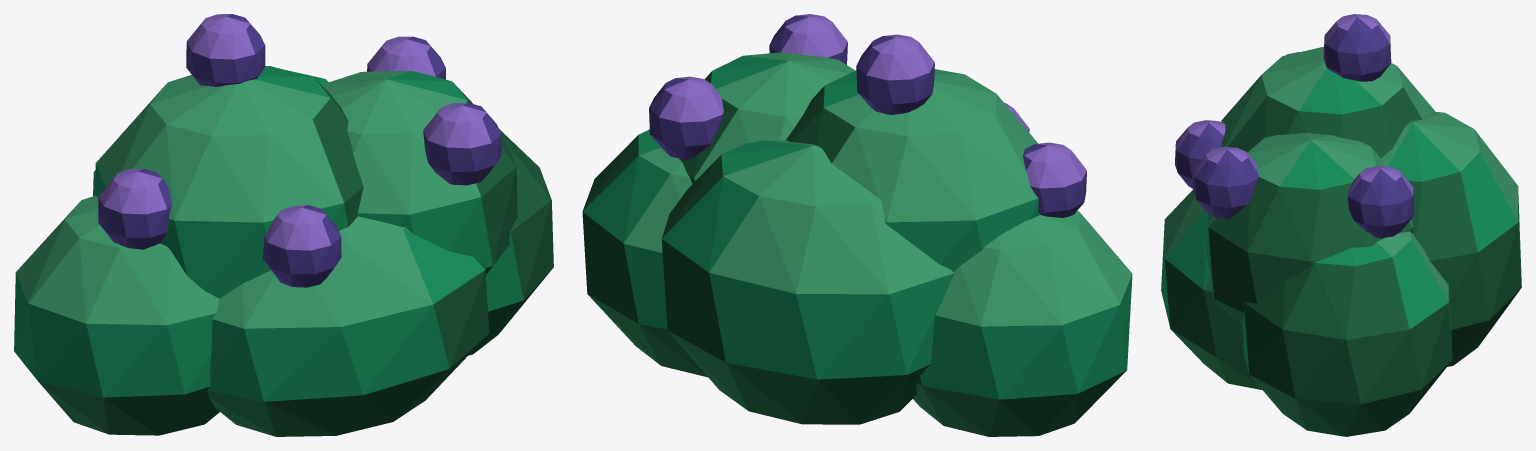
Rendered from berry_stage_04.fbx.
3 views of the same model, side by side, from view 1: azimuth 30°, elevation 25°; view 2: azimuth 150°, elevation 25°; view 3: azimuth 270°, elevation 25° (orthographic). The views are drawn at different scales.
Visible parts, largest first — view 1: berry_stage_04__Foliage, berry_stage_04; view 2: berry_stage_04__Foliage, berry_stage_04; view 3: berry_stage_04__Foliage, berry_stage_04.
Boxes of the visible parts, x1,y1,x2,y2 form: berry_stage_04__Foliage: [14, 66, 553, 436]; berry_stage_04: [98, 14, 501, 287]; berry_stage_04__Foliage: [582, 52, 1132, 436]; berry_stage_04: [649, 14, 1086, 217]; berry_stage_04__Foliage: [1161, 47, 1521, 436]; berry_stage_04: [1175, 14, 1414, 238].
Size of the model in its own units: 2.69 by 1.92 by 1.86.
1 material, 1 textured.
